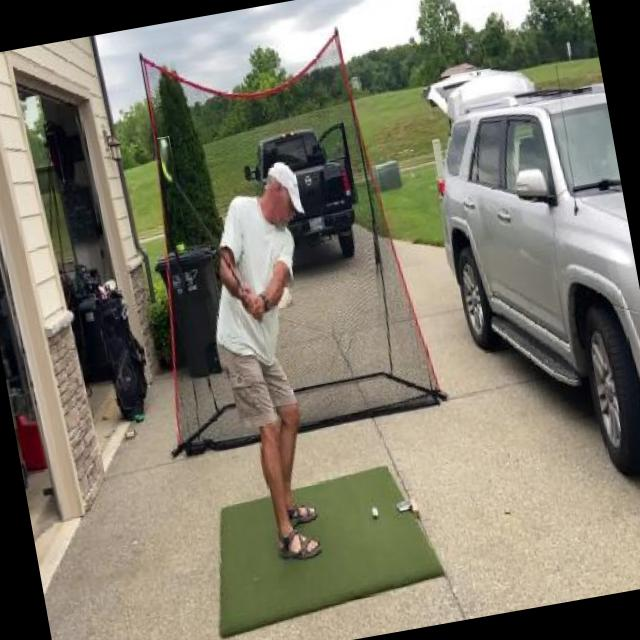club head: (158, 135, 180, 184)
